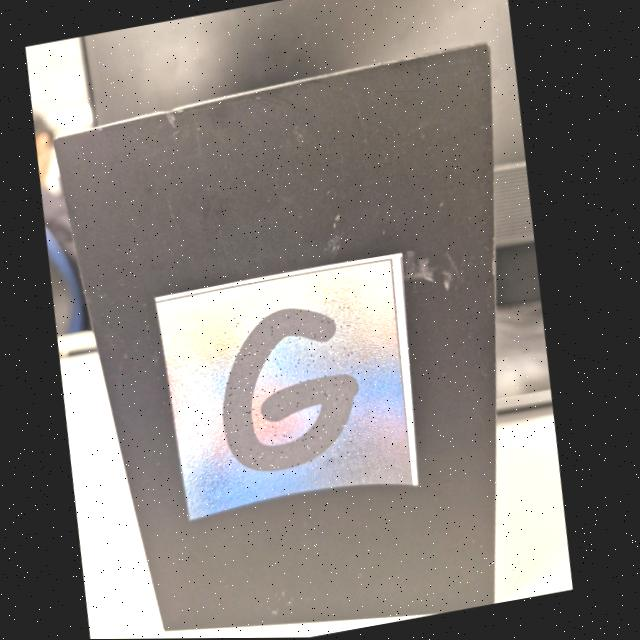G: (229, 309, 363, 472)
